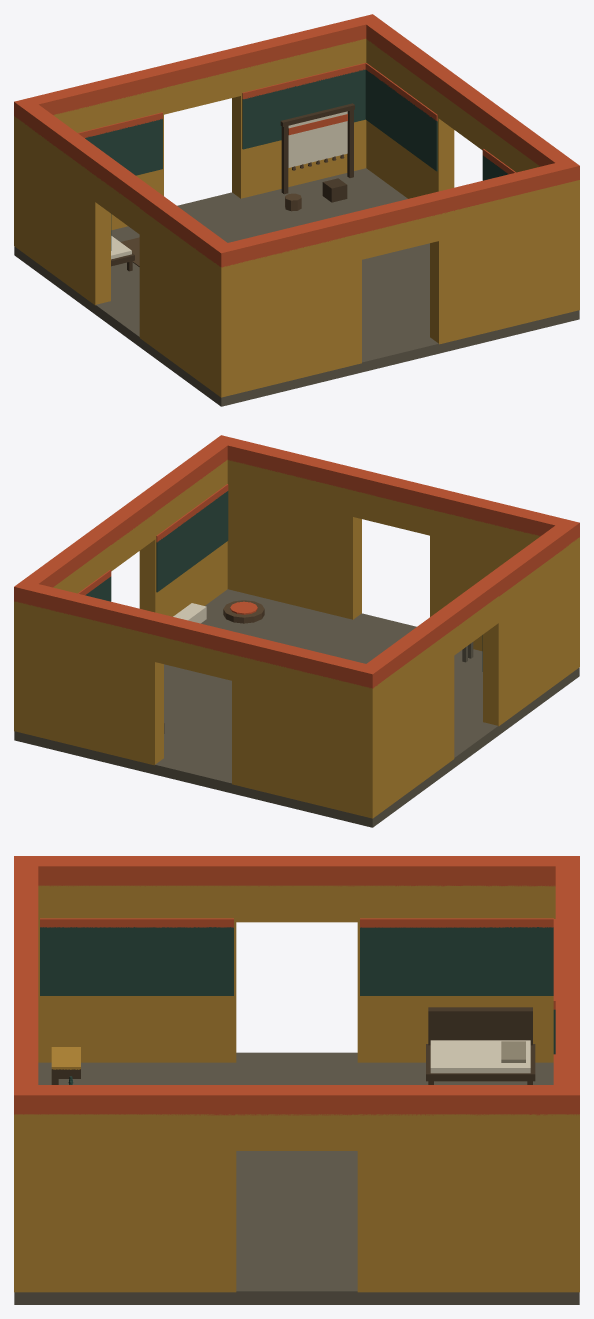
Rendered from BronzeQueensHall.fbx.
3 views of the same model, one above another, from view 1: azimuth 30°, elevation 25°; view 2: azimuth 150°, elevation 25°; view 3: azimuth 270°, elevation 25° (orthographic). The views are drawn at different scales.
Parts seen in each view (by area): view 1: BronzeQueensHall; view 2: BronzeQueensHall; view 3: BronzeQueensHall.
Part boxes in pixels (bbox=[...]): BronzeQueensHall: bbox=[14, 14, 579, 406]; BronzeQueensHall: bbox=[14, 435, 579, 827]; BronzeQueensHall: bbox=[14, 856, 579, 1304].
Bounding box in the file's own units: 1202 × 492 × 1202.
8 materials, 8 textured.
